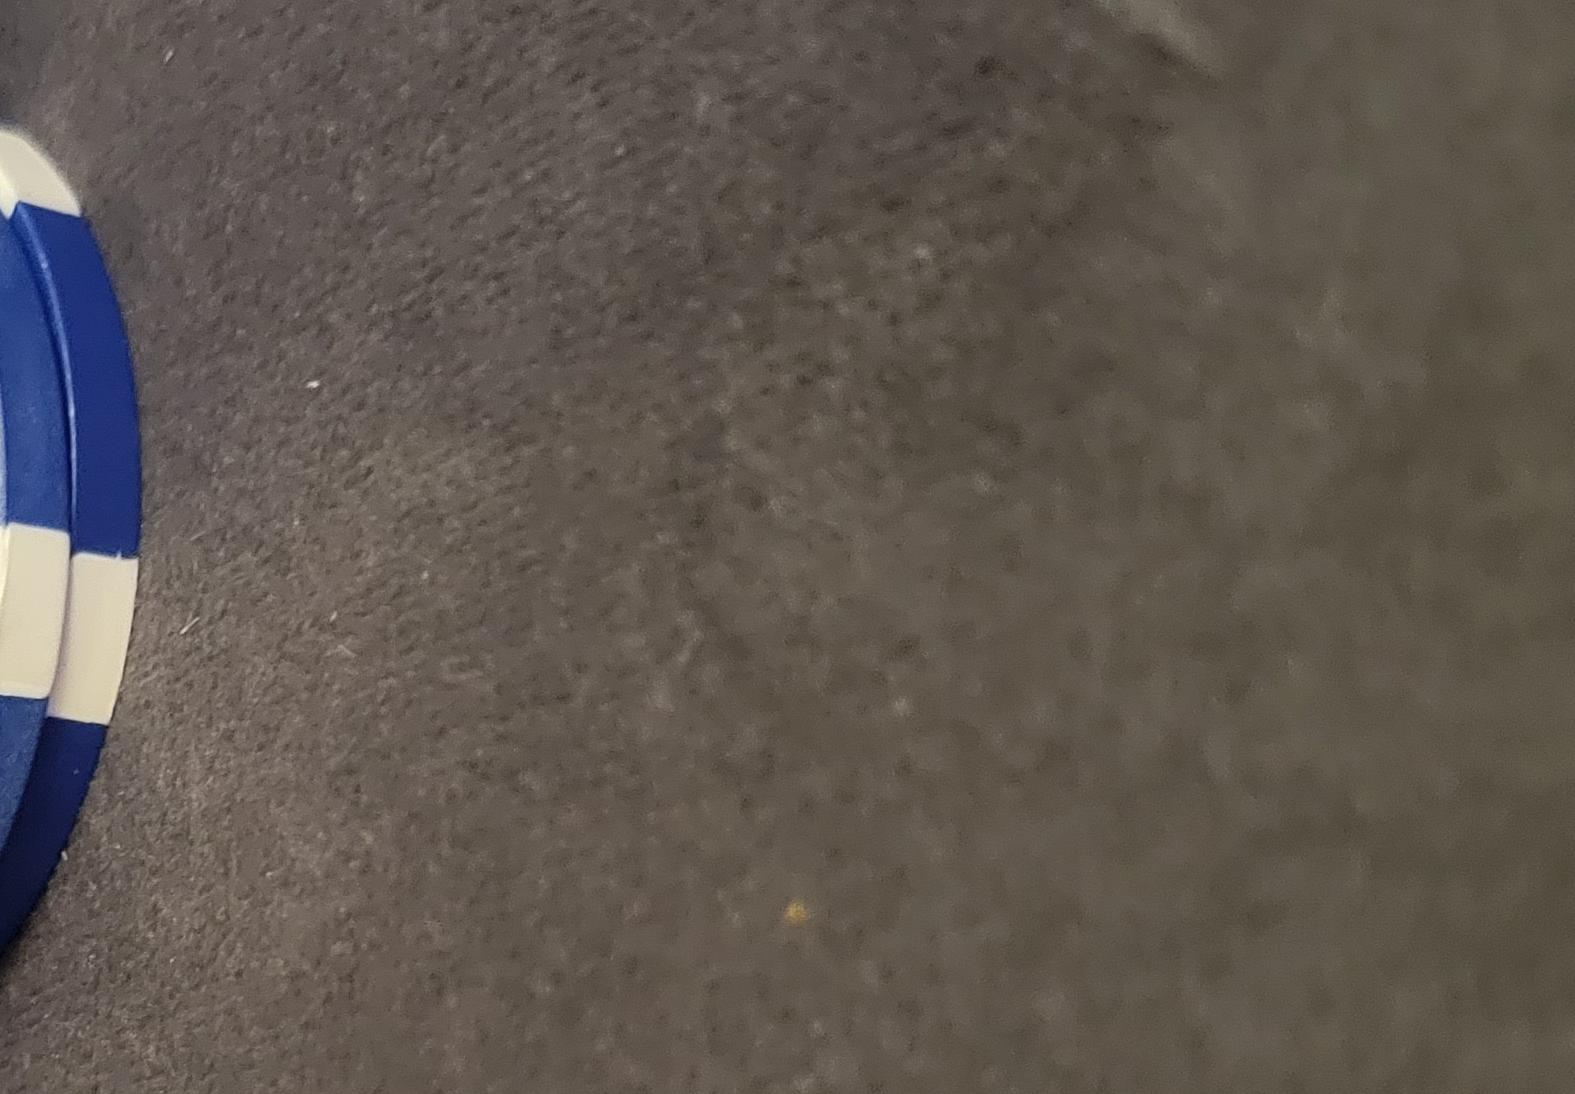Chip: (1, 171, 709, 1094)
